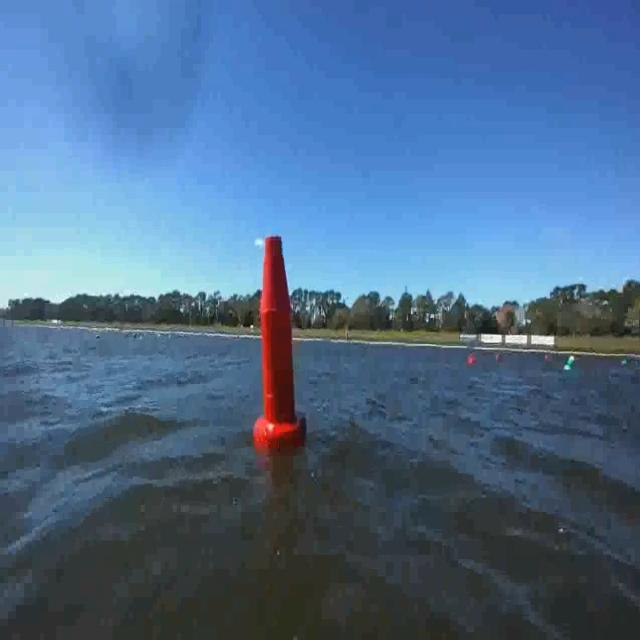green-buoy: (567, 356, 575, 368)
red-buoy: (470, 354, 478, 367)
red-column-buoy: (256, 231, 306, 451)
